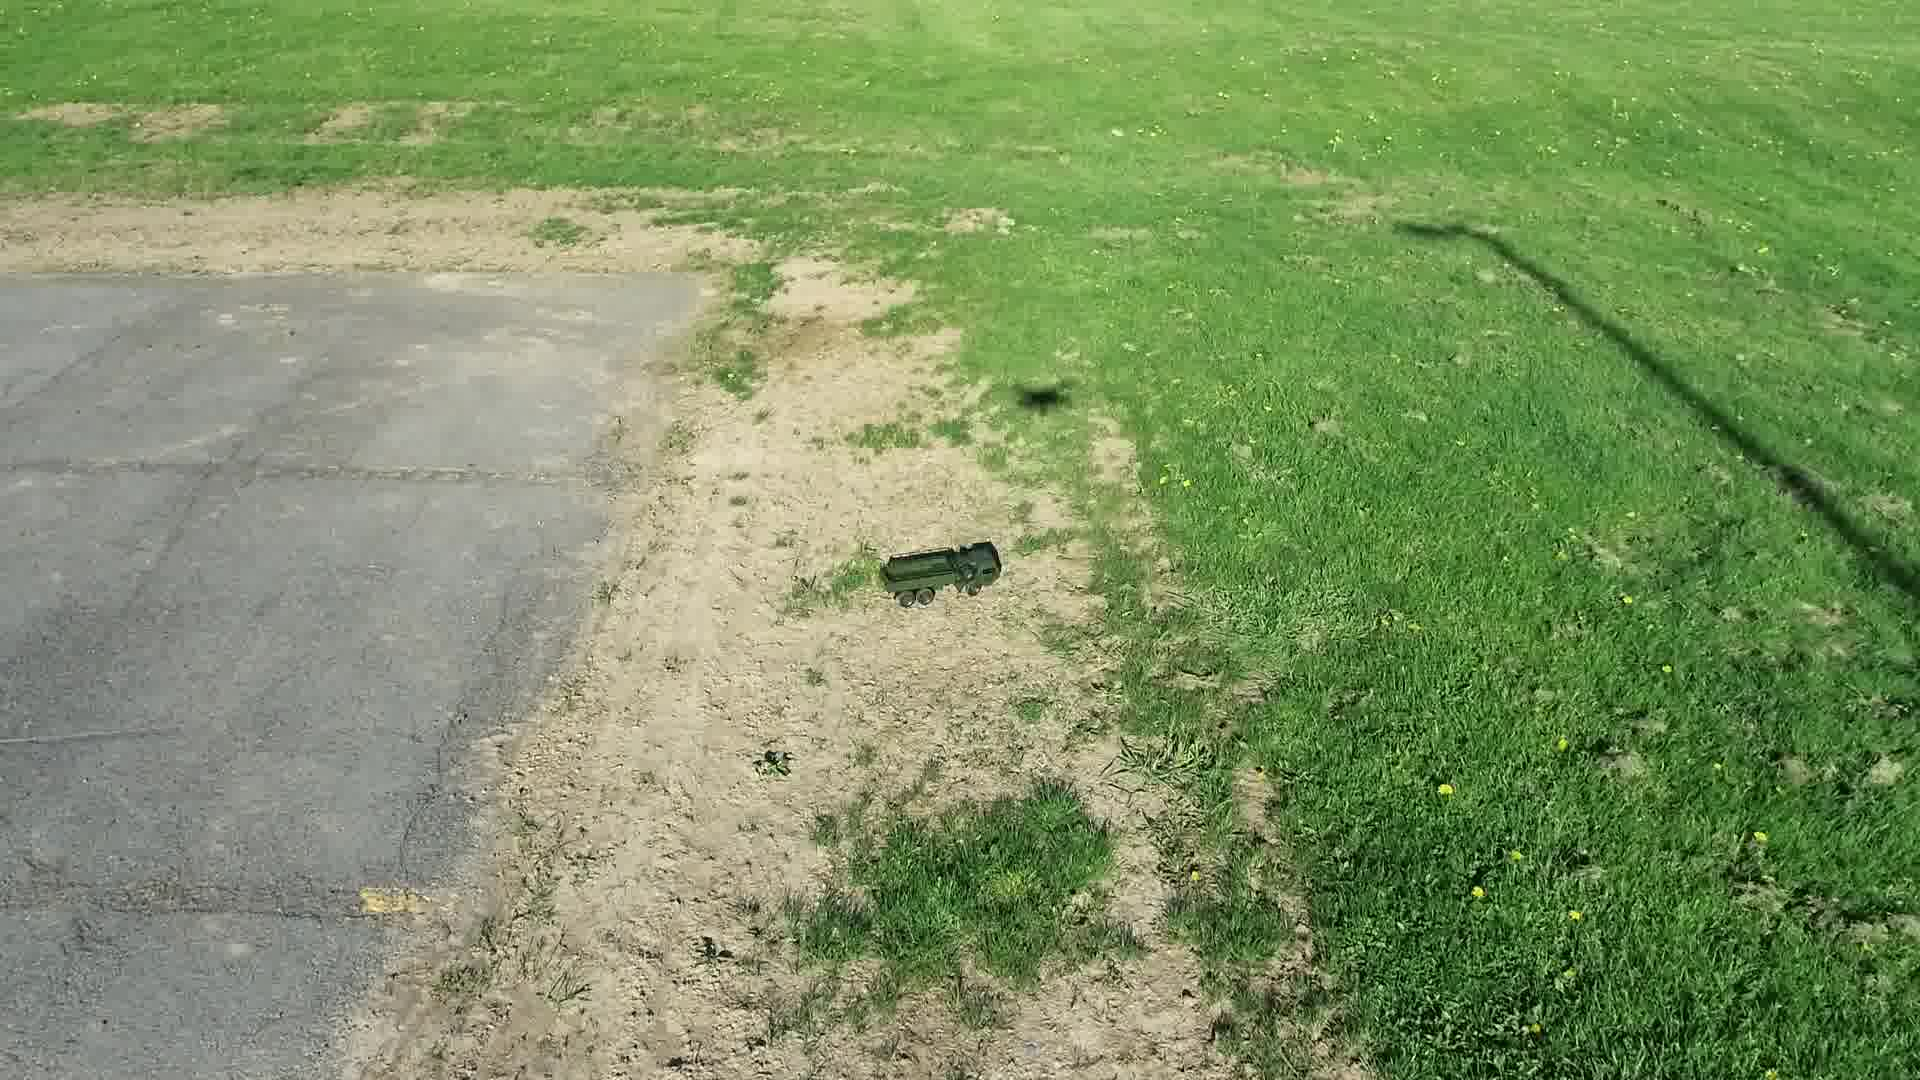transporter9: (878, 535, 1009, 611)
